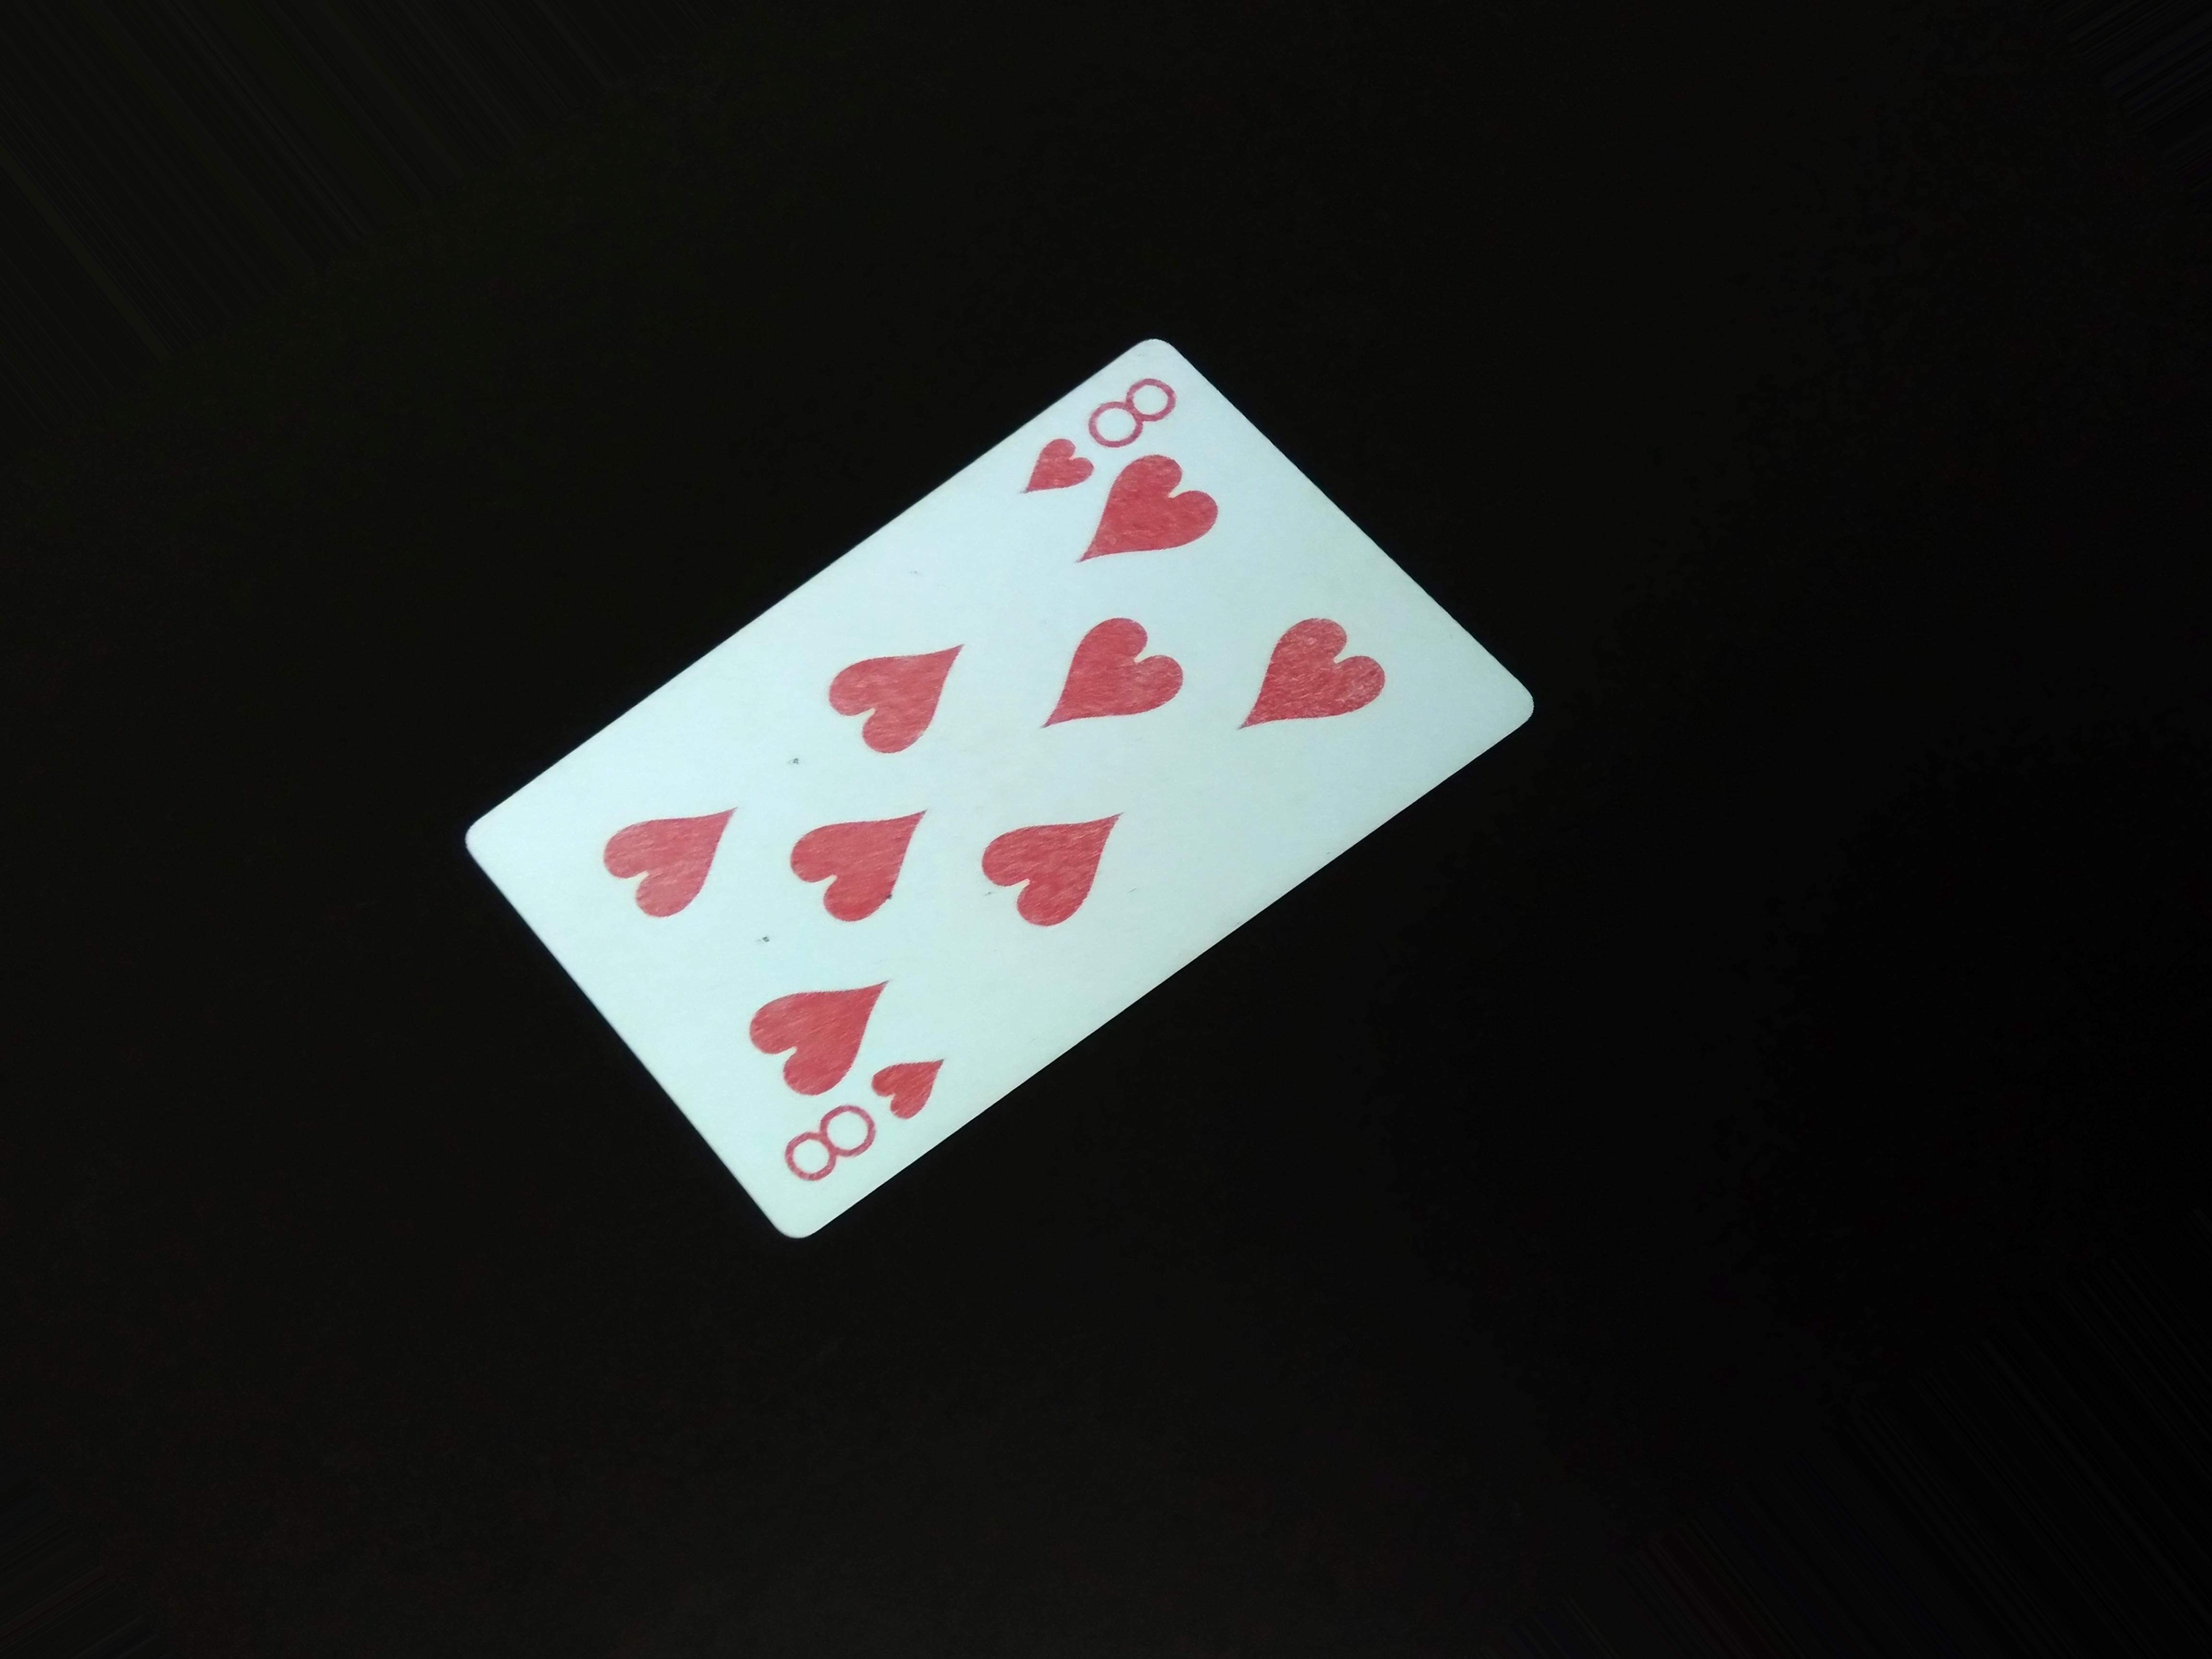8H: (1012, 369, 1181, 509)
